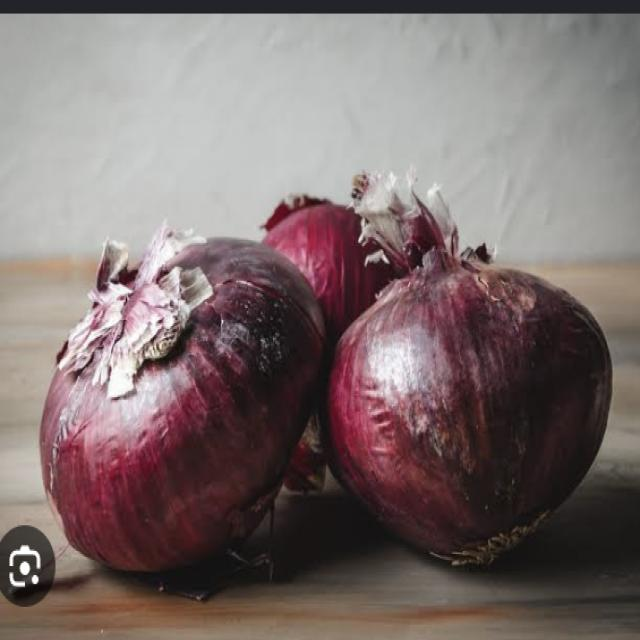mechanical_damage: (38, 174, 640, 615), (33, 203, 342, 610)
